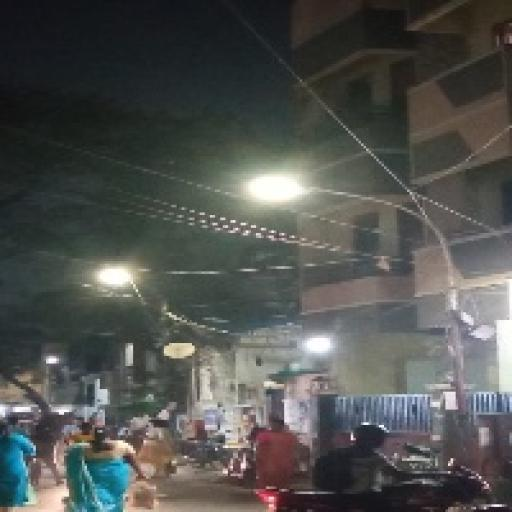Working: (240, 166, 318, 214), (90, 261, 142, 298)
